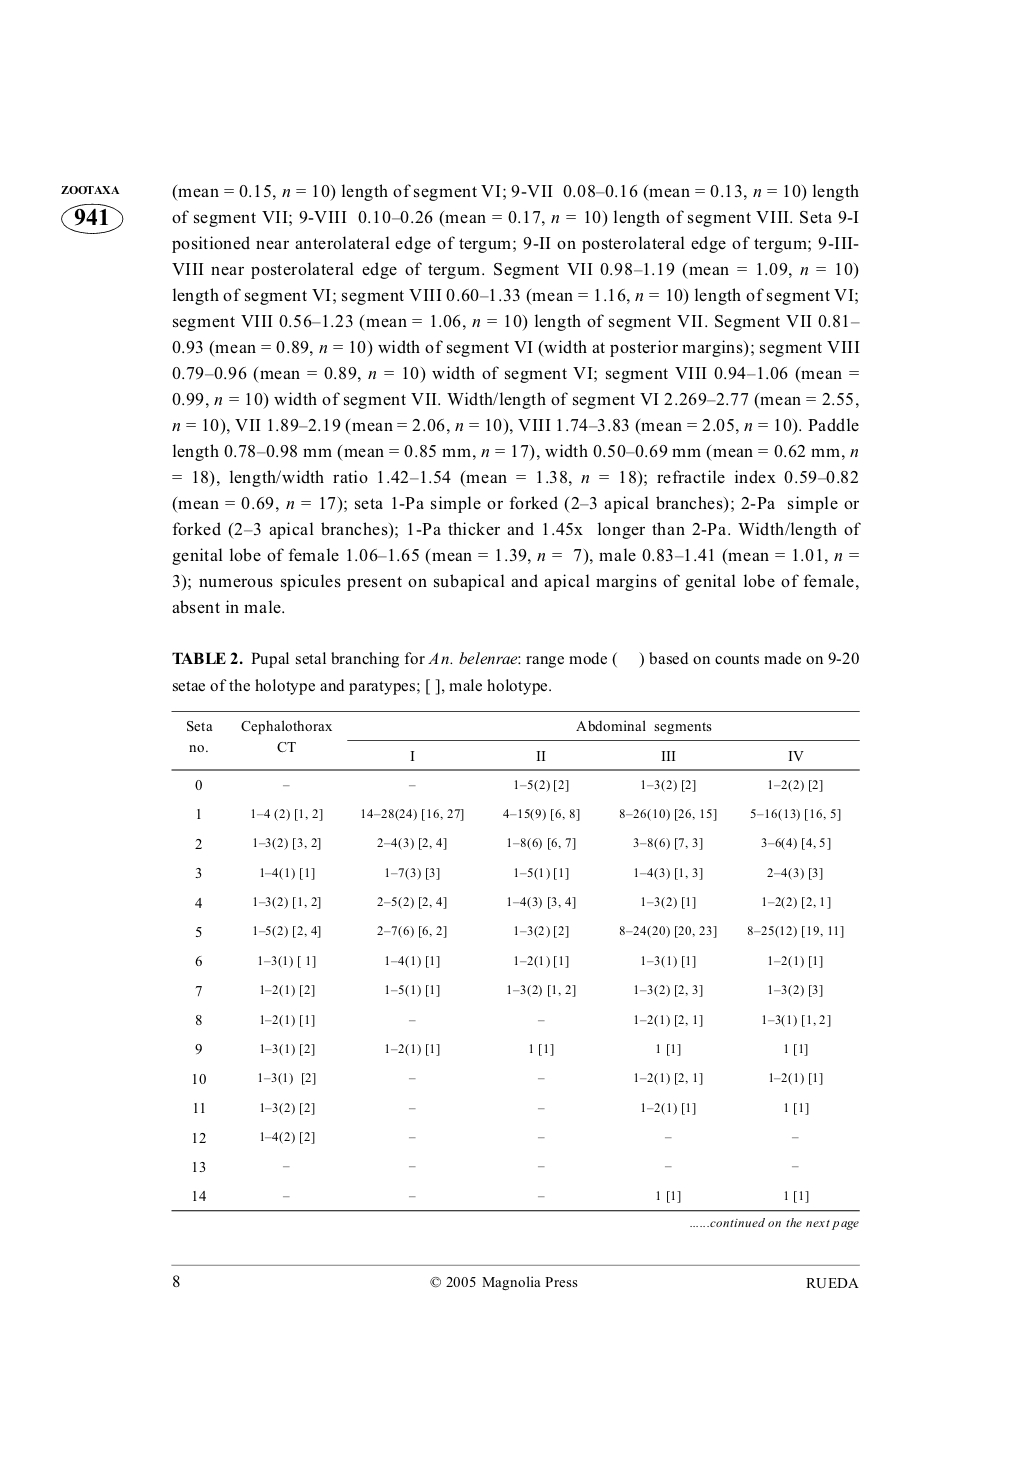Table: (171, 711, 859, 1211)
figure: (61, 186, 123, 233)
